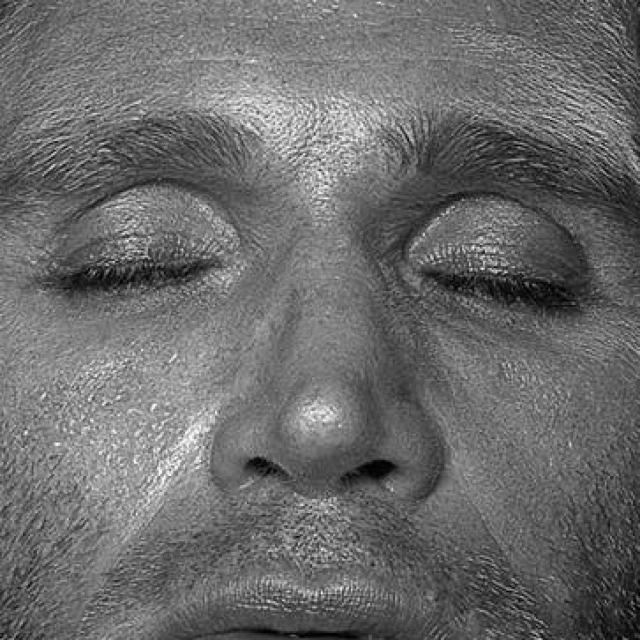real: (0, 0, 637, 640), (52, 172, 586, 342)
